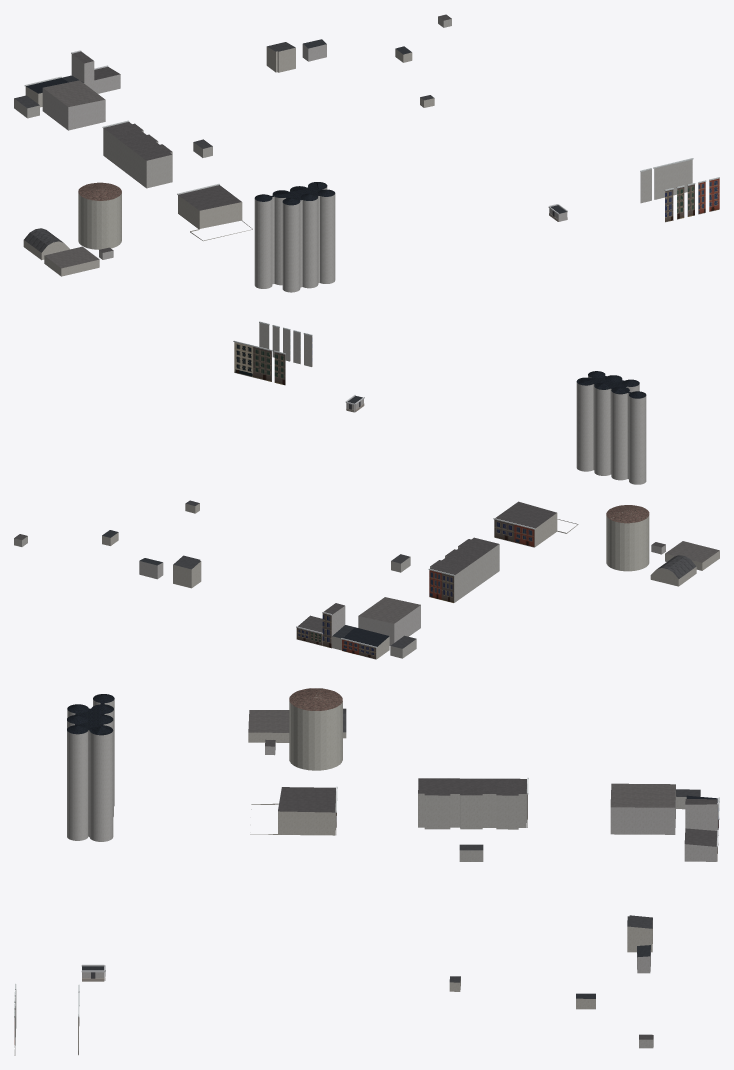
The picture shows the model from 3 angles, top to bottom: view 1: azimuth 30°, elevation 25°; view 2: azimuth 150°, elevation 25°; view 3: azimuth 270°, elevation 25°; orthographic projection. The views are drawn at different scales.
Parts seen in each view (by area): view 1: bldg_6000072879, bldg_6000072872, bldg_6004321353, bldg_6008396335, bldg_6004321352, bldg_6004321353_roof, bldg_6004321388_facade5, bldg_6000072879_roof, bldg_6008396335_roof, bldg_6004321361, bldg_6004321352_roof, bldg_6004321339_roof (+4 smaller); view 2: bldg_6000072879, bldg_6000072872, bldg_6004321353, bldg_6004321388_facade5, bldg_6004321353_roof, bldg_6008396335, bldg_6000072879_roof, bldg_6008396335_roof, bldg_6004321352_roof, bldg_6004321352_facade0, bldg_6004321353_facade0, bldg_6000072872_roof (+2 smaller); view 3: bldg_6000072879, bldg_6004321353, bldg_6000072872, bldg_6004321353_roof, bldg_6008396335, bldg_6008396335_roof, bldg_6004321352, bldg_6004321352_roof, bldg_6004321361, bldg_6000072879_roof, bldg_6000072872_roof, bldg_6004321339_roof (+1 smaller).
Part boxes in pixels (left/top/right/bottom): bldg_6000072879: left=254, top=187, right=335, bottom=292; bldg_6000072872: left=78, top=192, right=121, bottom=249; bldg_6004321353: left=103, top=128, right=172, bottom=188; bldg_6008396335: left=42, top=88, right=105, bottom=130; bldg_6004321352: left=178, top=195, right=252, bottom=241; bldg_6004321353_roof: left=104, top=122, right=172, bottom=160; bldg_6004321388_facade5: left=653, top=158, right=693, bottom=199; bldg_6000072879_roof: left=254, top=182, right=335, bottom=205; bldg_6008396335_roof: left=43, top=80, right=104, bottom=106; bldg_6004321361: left=71, top=54, right=120, bottom=93; bldg_6004321352_roof: left=178, top=185, right=241, bottom=210; bldg_6004321339_roof: left=44, top=246, right=99, bottom=268; bldg_6000072879: left=576, top=375, right=646, bottom=484; bldg_6000072872: left=606, top=510, right=649, bottom=571; bldg_6004321353: left=430, top=544, right=499, bottom=602; bldg_6004321388_facade5: left=233, top=340, right=272, bottom=381; bldg_6004321353_roof: left=430, top=537, right=498, bottom=574; bldg_6008396335: left=358, top=605, right=420, bottom=645; bldg_6000072879_roof: left=576, top=371, right=646, bottom=398; bldg_6008396335_roof: left=358, top=597, right=420, bottom=623; bldg_6004321352_roof: left=495, top=501, right=556, bottom=528; bldg_6004321352_facade0: left=493, top=518, right=535, bottom=547; bldg_6004321353_facade0: left=428, top=568, right=454, bottom=602; bldg_6000072872_roof: left=606, top=505, right=649, bottom=523; bldg_6000072879: left=67, top=699, right=114, bottom=841; bldg_6004321353: left=418, top=789, right=526, bottom=829; bldg_6000072872: left=289, top=691, right=342, bottom=770; bldg_6004321353_roof: left=418, top=778, right=526, bottom=795; bldg_6008396335: left=610, top=791, right=675, bottom=834; bldg_6008396335_roof: left=610, top=783, right=675, bottom=807; bldg_6004321352: left=250, top=795, right=335, bottom=835; bldg_6004321352_roof: left=278, top=787, right=335, bottom=812; bldg_6004321361: left=684, top=804, right=717, bottom=861; bldg_6000072879_roof: left=67, top=694, right=114, bottom=735; bldg_6000072872_roof: left=289, top=688, right=342, bottom=710; bldg_6004321339_roof: left=248, top=710, right=289, bottom=732.
Bounding box in the file's own units: 221 × 33.97 × 196.
Materials: 21 (14 with a texture image).
